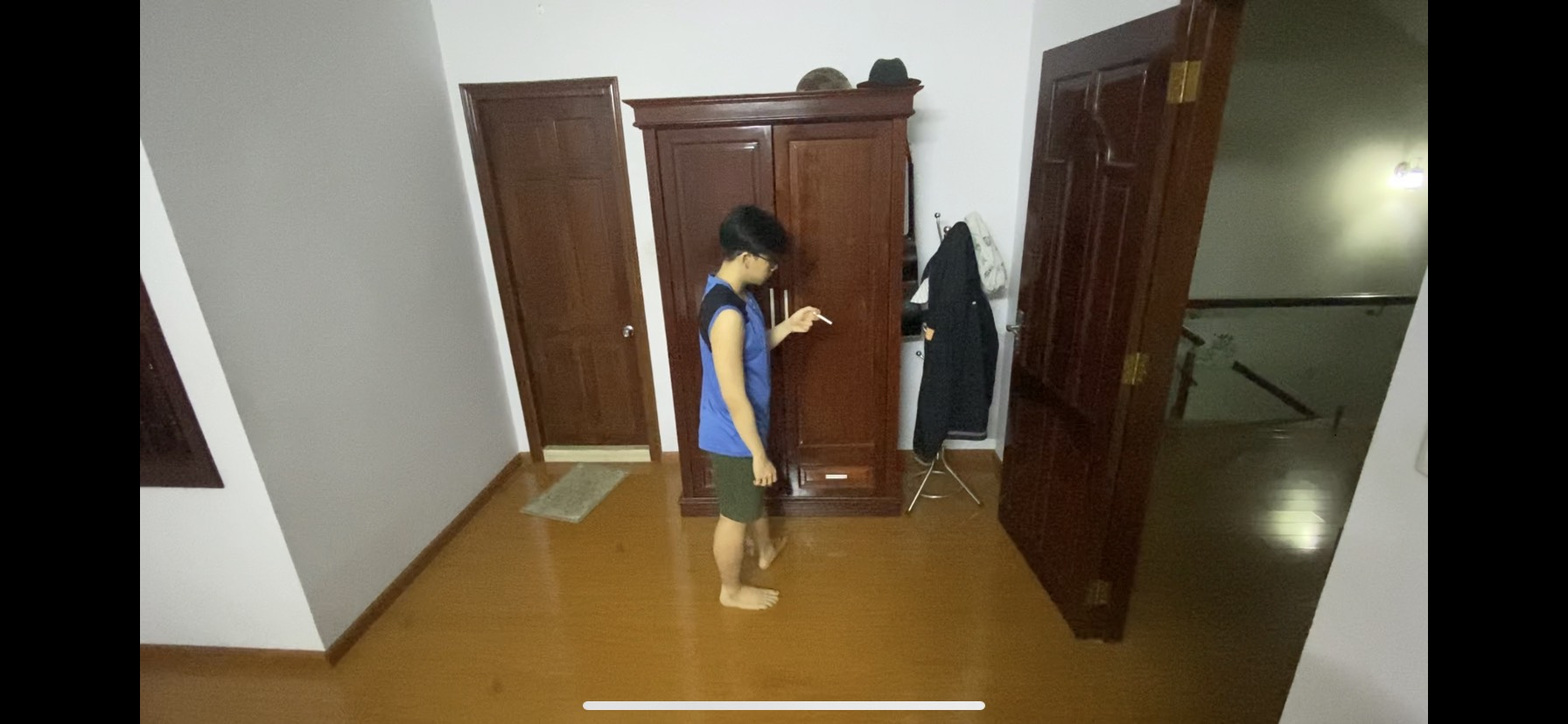cigarette: (822, 313, 837, 330)
person: (687, 201, 850, 619)
